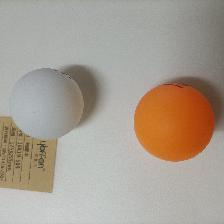WhiteBall: (8, 67, 84, 139)
YellowBall: (133, 83, 215, 162)
